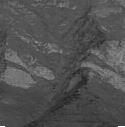Target: (48, 81, 60, 90)
